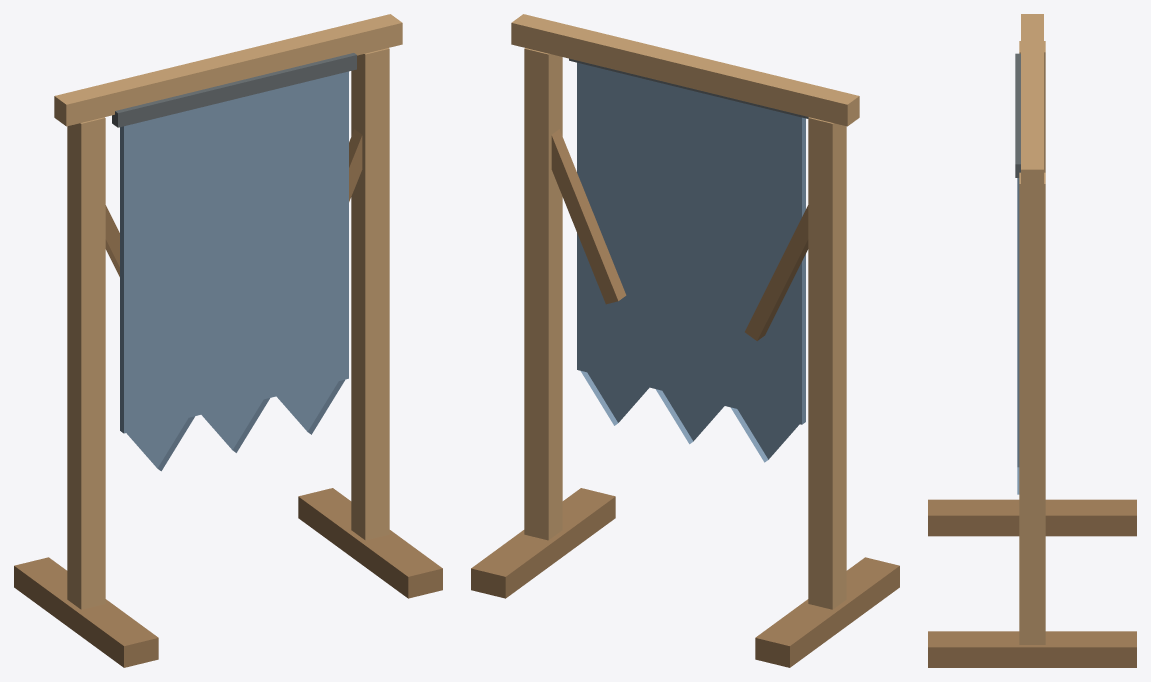
The model's file is gonfalon-frame.glb.
The picture shows the model from 3 angles, left to right: view 1: azimuth 30°, elevation 25°; view 2: azimuth 150°, elevation 25°; view 3: azimuth 270°, elevation 25°; orthographic projection. The views are drawn at different scales.
Parts seen in each view (by area): view 1: gonfalon-frame; view 2: gonfalon-frame; view 3: gonfalon-frame.
Part boxes in pixels (x1,y1,x2,y2): gonfalon-frame: (14, 14, 442, 667); gonfalon-frame: (471, 14, 899, 667); gonfalon-frame: (928, 14, 1136, 667).
Size of the model in its own units: 1.94 by 2.92 by 1.1.
